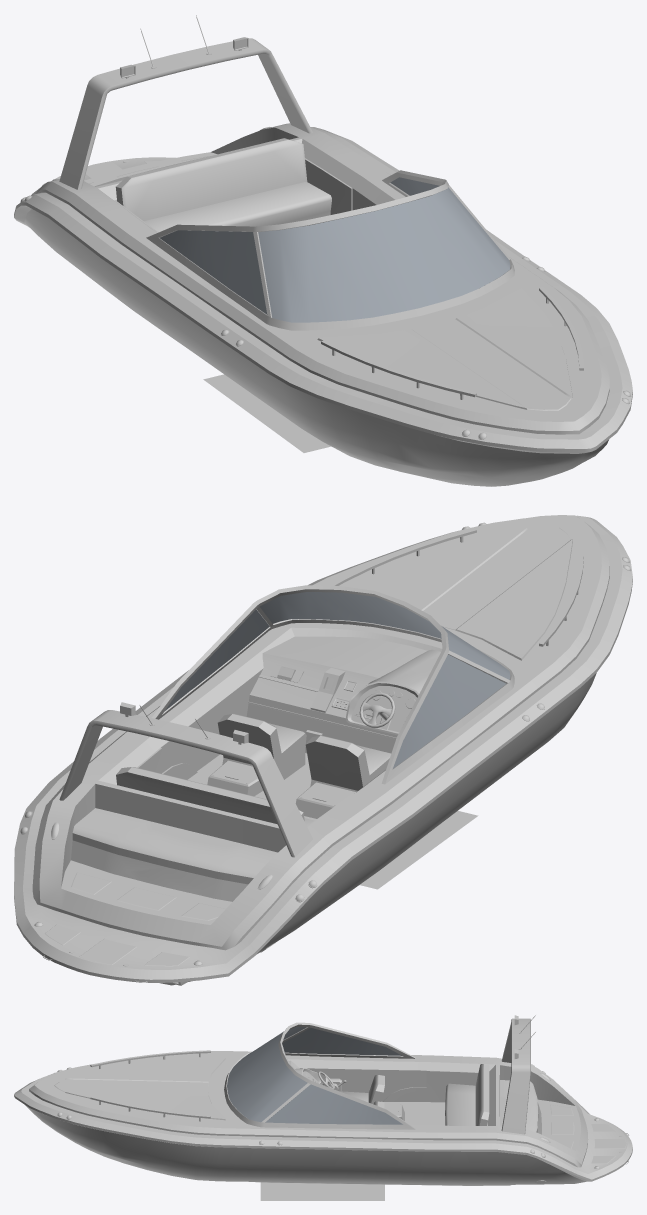
File: TestBoat.fbx
The picture shows the model from 3 angles, top to bottom: view 1: azimuth 30°, elevation 25°; view 2: azimuth 150°, elevation 25°; view 3: azimuth 270°, elevation 25°; orthographic projection. The views are drawn at different scales.
Visible parts, largest first — view 1: Motorboat, Motorboat.001; view 2: Motorboat, Motorboat.001; view 3: Motorboat, Motorboat.001.
Part boxes in pixels (x1,y1,x2,y2): Motorboat: (14, 15, 632, 486); Motorboat.001: (160, 177, 510, 322); Motorboat: (14, 515, 632, 985); Motorboat.001: (164, 592, 510, 768); Motorboat: (14, 1015, 632, 1200); Motorboat.001: (227, 1027, 402, 1124).
Size of the model in its own units: 357 by 271 by 996.
